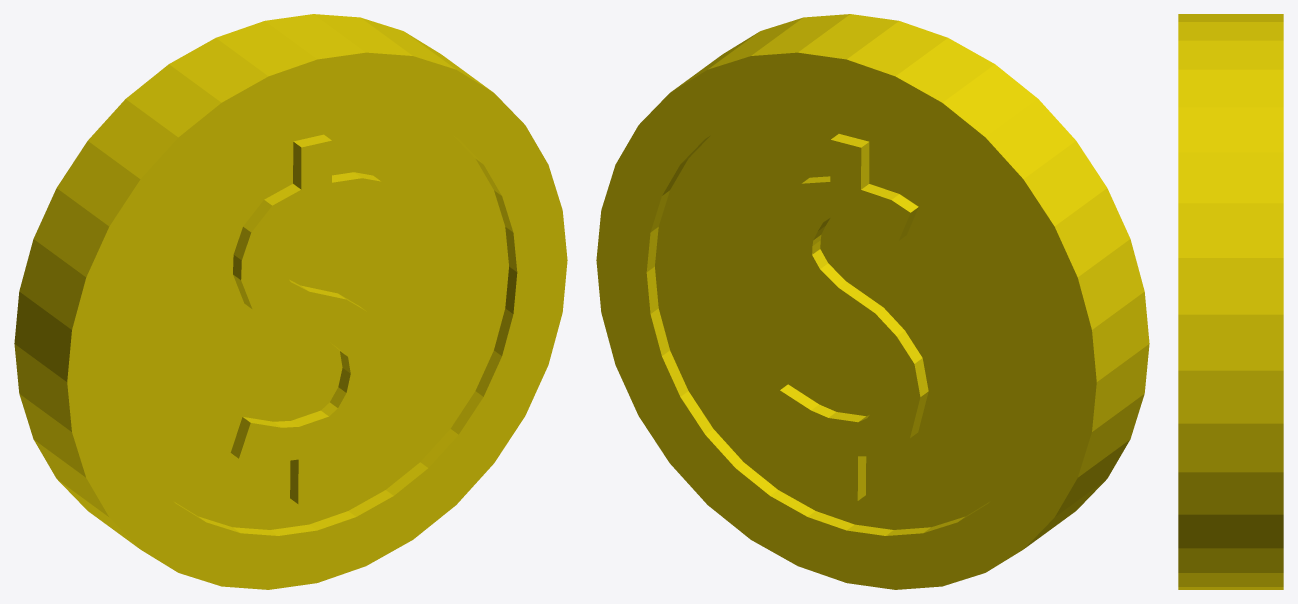
File: Coin.fbx
3 views of the same model, side by side, from view 1: azimuth 30°, elevation 25°; view 2: azimuth 150°, elevation 25°; view 3: azimuth 270°, elevation 25° (orthographic).
Parts seen in each view (by area): view 1: Coin; view 2: Coin; view 3: Coin.
Part boxes in pixels (x1,y1,x2,y2): Coin: (14,14,567,589); Coin: (596,14,1149,589); Coin: (1178,14,1283,589).
Bounding box in the file's own units: 200 × 200 × 36.58.
